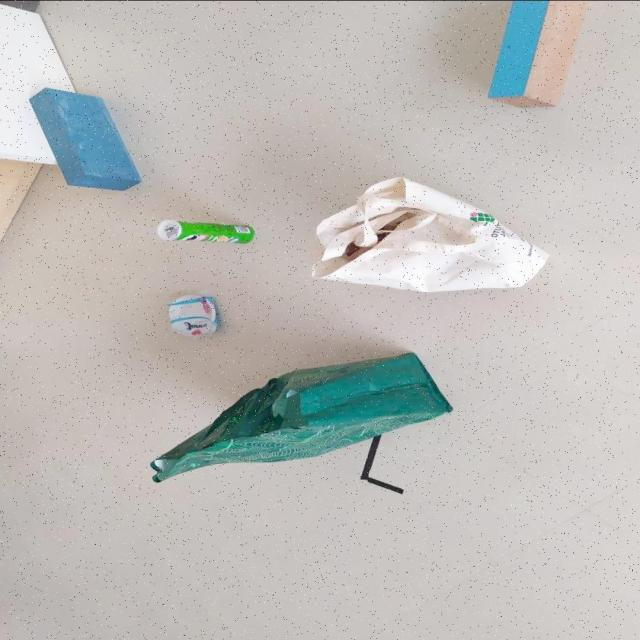Bag: (151, 350, 458, 483), (303, 175, 551, 294)
Plate: (168, 294, 220, 338)
Pringles: (154, 218, 258, 244)
